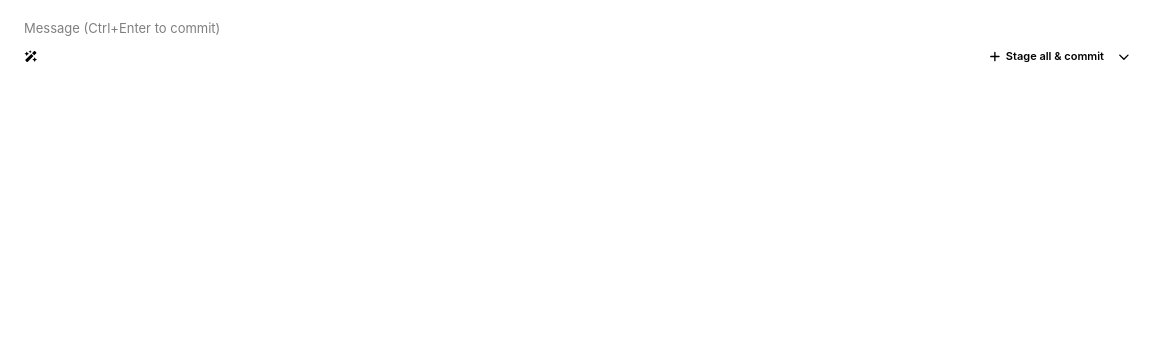
CommitBox menu › keeps Commit & push off without a remote, and says why
In the text box named "Commit message": (576, 26) [10,8,1142,44], type "Fix the parser"
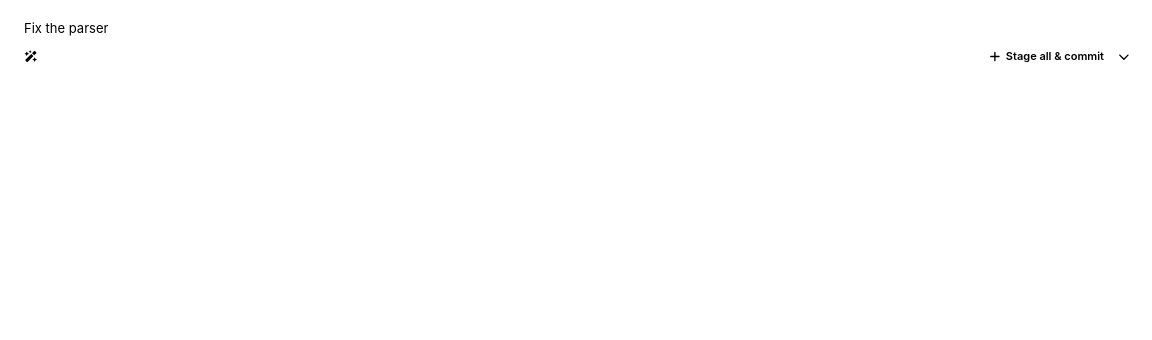
Click the button named "More commit options": (1124, 56) [1112,44,1136,68]
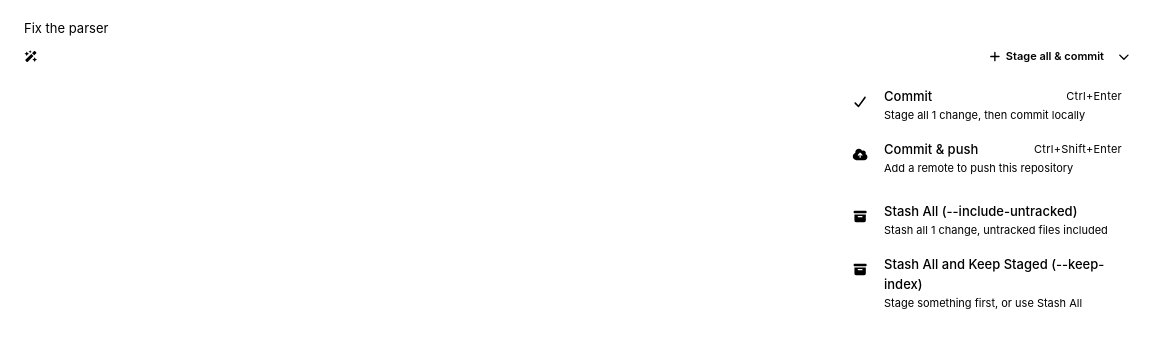
Expected: the menu is shown, [832,74,1136,324]
Expected: the menu item that starts with "Commit & push" shows "Add a remote to push this repository", [836,131,1132,184]
